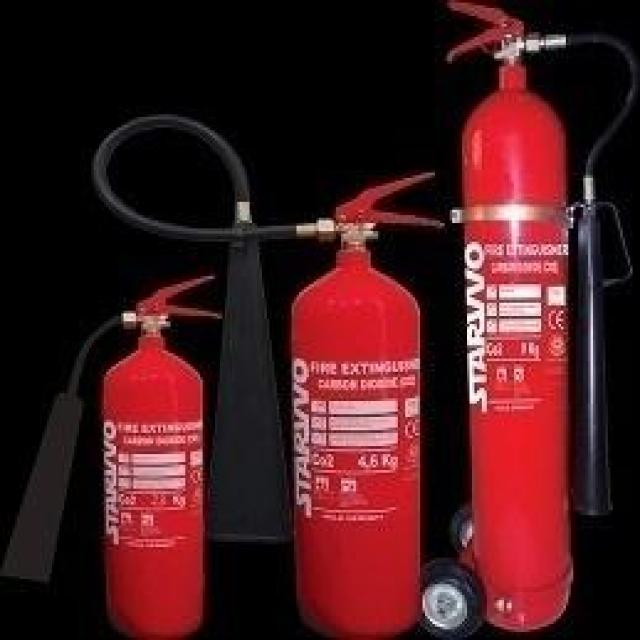fire_extinguisher: (82, 107, 444, 638), (438, 0, 638, 635), (0, 260, 225, 638)
